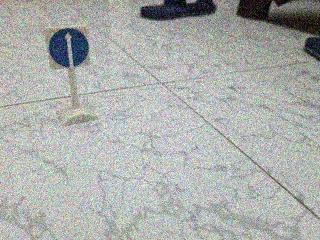straight: (47, 26, 92, 69)
